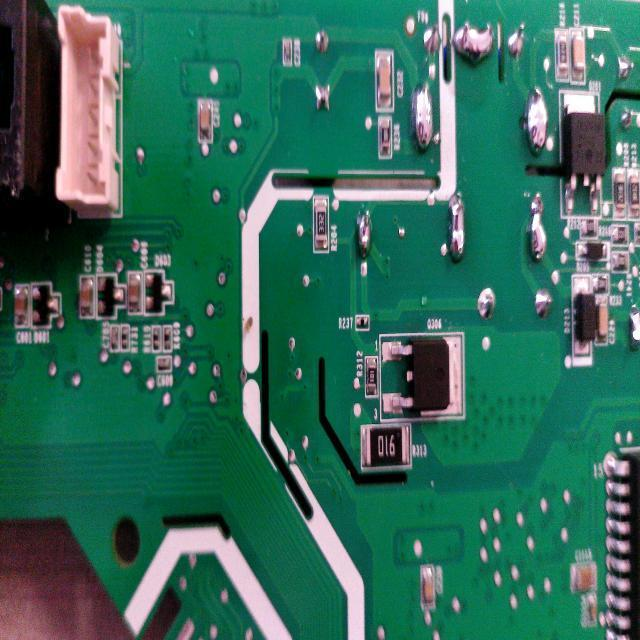Soldering shorted: (446, 16, 496, 70), (520, 79, 548, 168), (408, 78, 435, 159), (443, 188, 468, 266), (526, 188, 549, 270), (354, 207, 374, 262), (623, 302, 640, 344)
